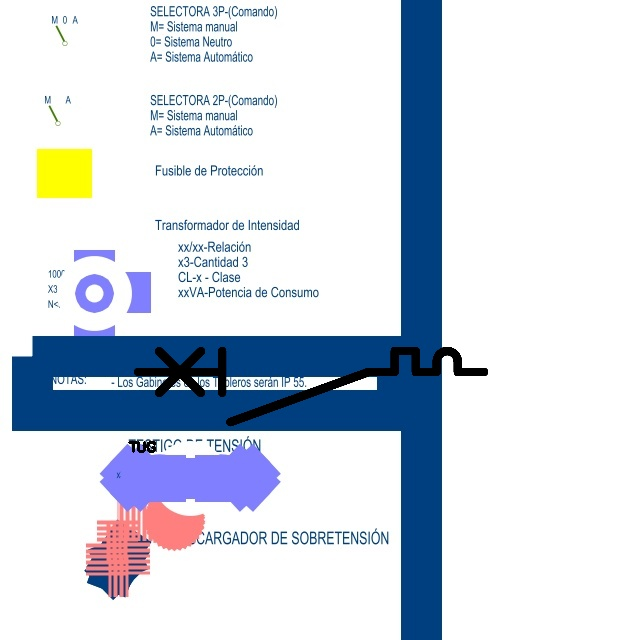interruptor_termomagnetico: (129, 342, 493, 431)
